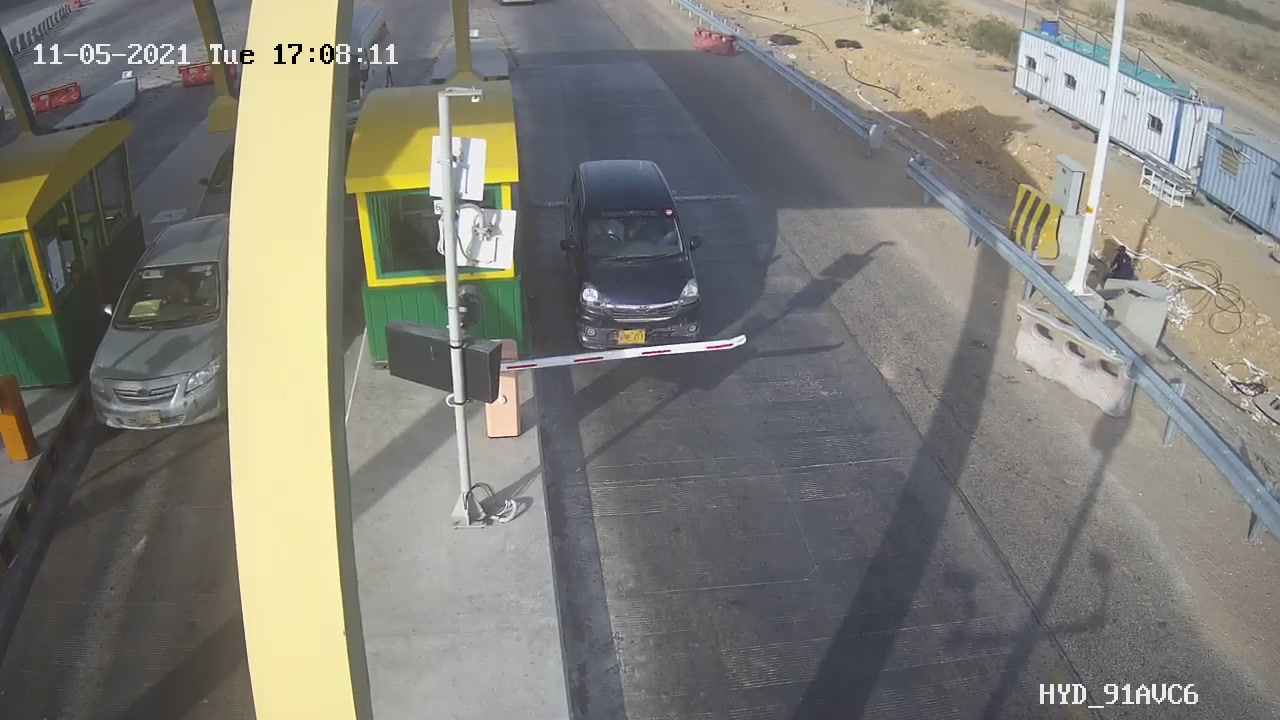F1: (543, 140, 731, 385)
